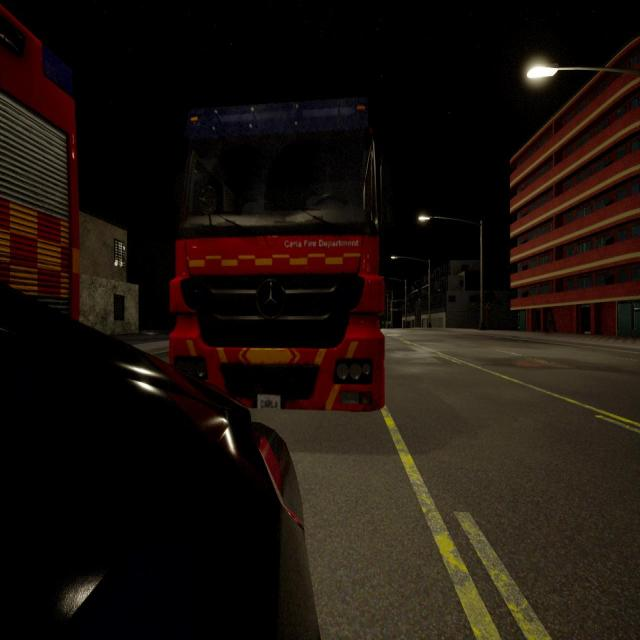Vehicle: (0, 289, 313, 640), (172, 101, 382, 406), (0, 5, 77, 326)
